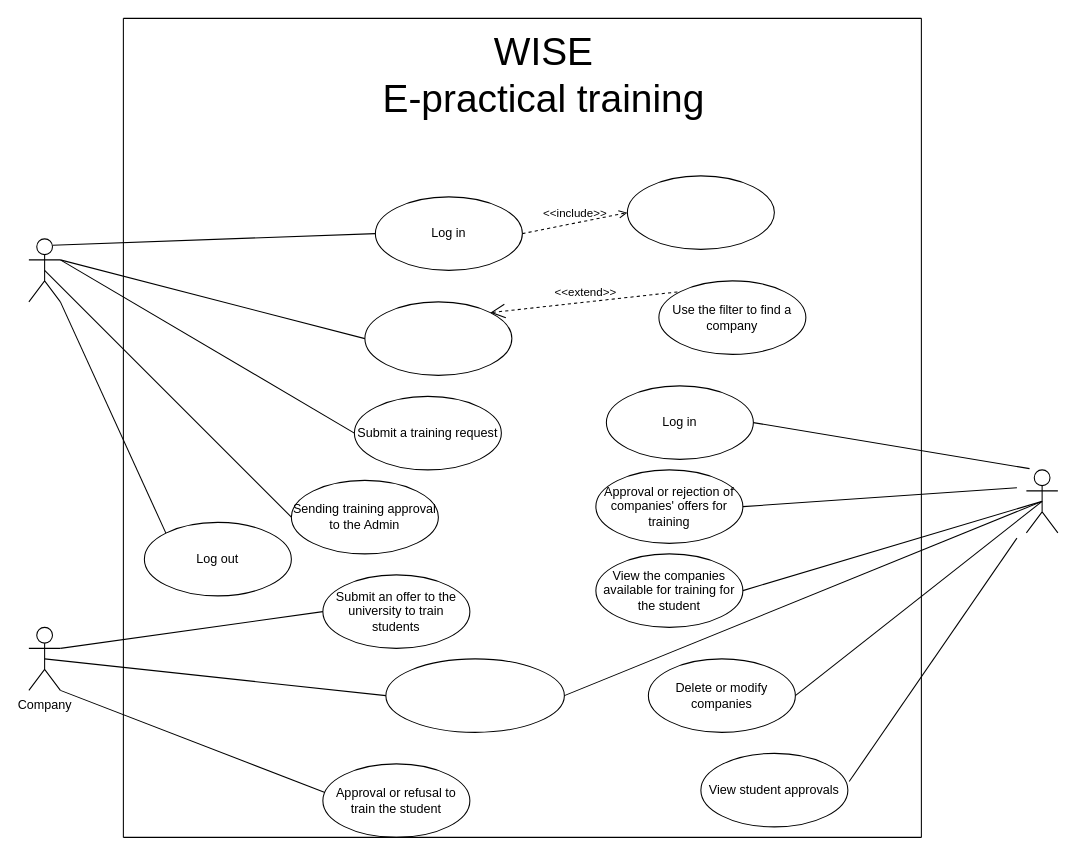
Some shapes in this 1078 by 857 pixel diagram are drawn without their labels. Each missing label, with the centre of its shape:
Admin: the point at 1041,501
Check the conditions for providing training: the point at 700,212
Evaluate the trainees and present them to the admin: the point at 474,695
Search for a company: the point at 438,338
Student: the point at 44,270
